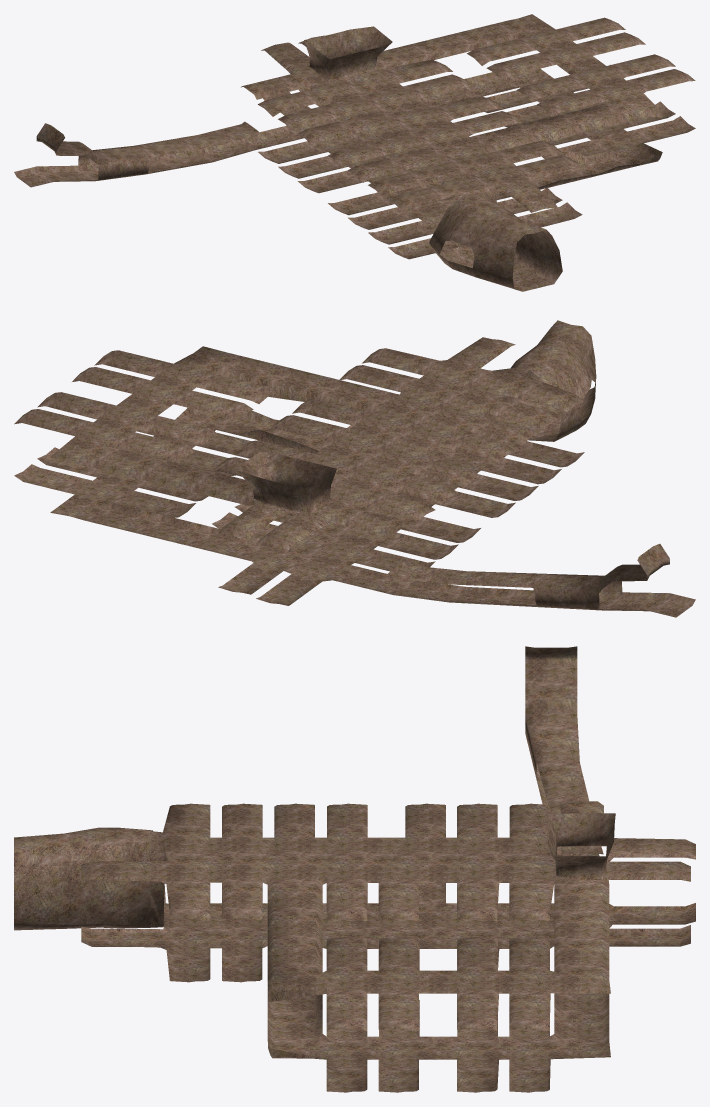
File: GraveGround.fbx
3 views of the same model, one above another, from view 1: azimuth 30°, elevation 25°; view 2: azimuth 150°, elevation 25°; view 3: azimuth 270°, elevation 25° (orthographic). The views are drawn at different scales.
Parts seen in each view (by area): view 1: GraveGround; view 2: GraveGround; view 3: GraveGround.
Part boxes in pixels (bbox=[...]): GraveGround: bbox=[14, 14, 695, 291]; GraveGround: bbox=[14, 320, 695, 617]; GraveGround: bbox=[14, 646, 695, 1092].
Size of the model in its own units: 33.76 by 4.41 by 26.07.
